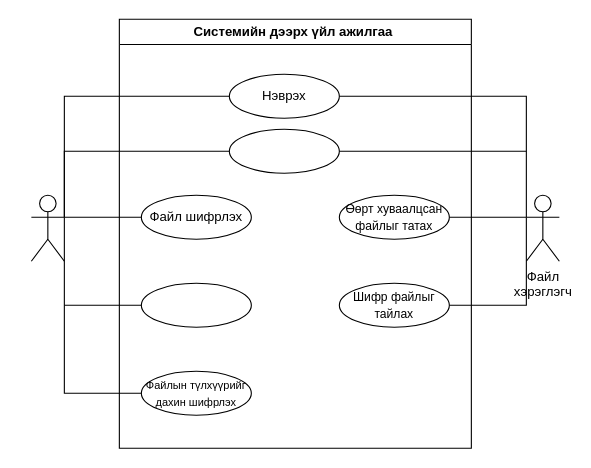
Some shapes in this 591 by 468 pixel diagram are drawn without their labels. Here are the shapes that lost their labels. From the top down, the centre of each, then its label:
At pixel 283 150: "Бүртгүүлэх".
At pixel 47 227: "Файл эзэмшигч".
At pixel 195 304: "Шифрлсэн файл байршуулах".
